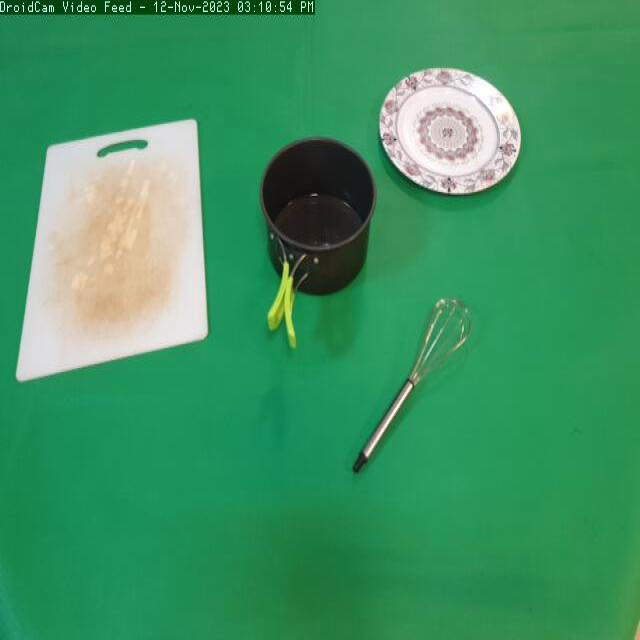cutting board: (8, 109, 210, 398)
plate: (376, 56, 530, 200)
pot: (250, 128, 378, 346)
whisk: (348, 288, 482, 483)
